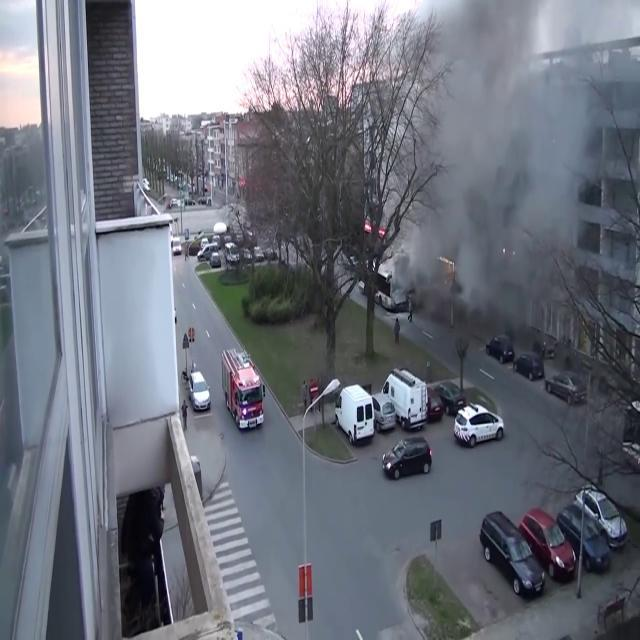Smoke: (398, 2, 605, 318)
